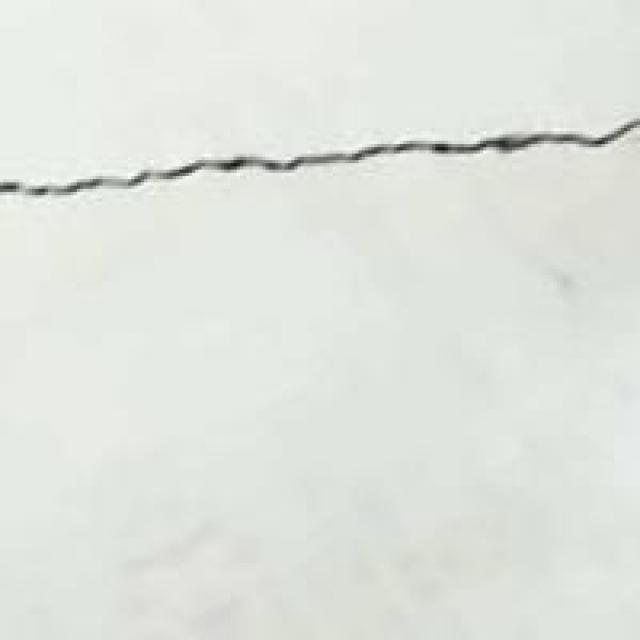crack: (0, 93, 637, 230)
